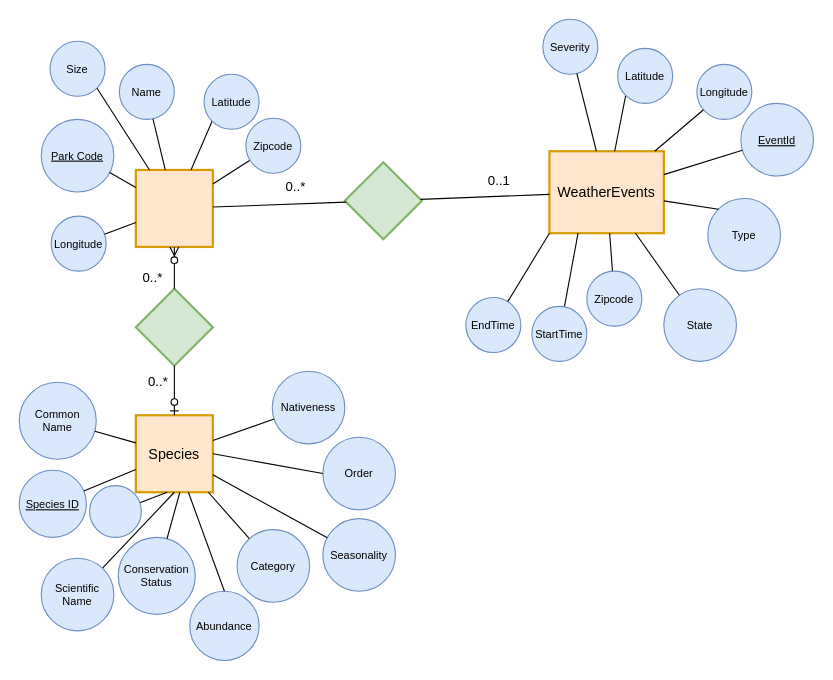
Some shapes in this 833 by 680 pixel diagram are drawn without their labels. The centre of each missing label's shape, as x and y in pixels:
Family: point 115,511
Has: point 173,326
occurs in: point 382,200
Parks: point 173,208
